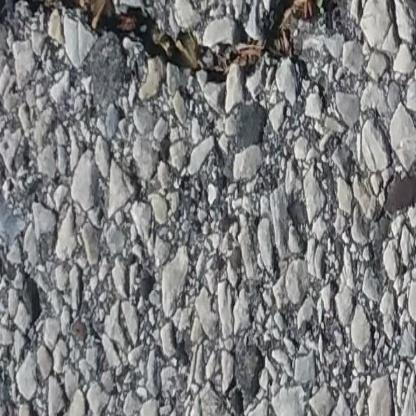Cracks: (0, 0, 343, 87)
